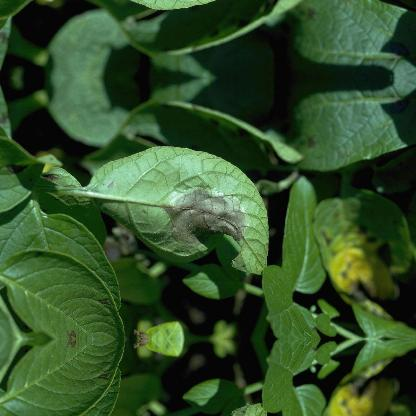Early-Blight: (38, 136, 284, 274)
